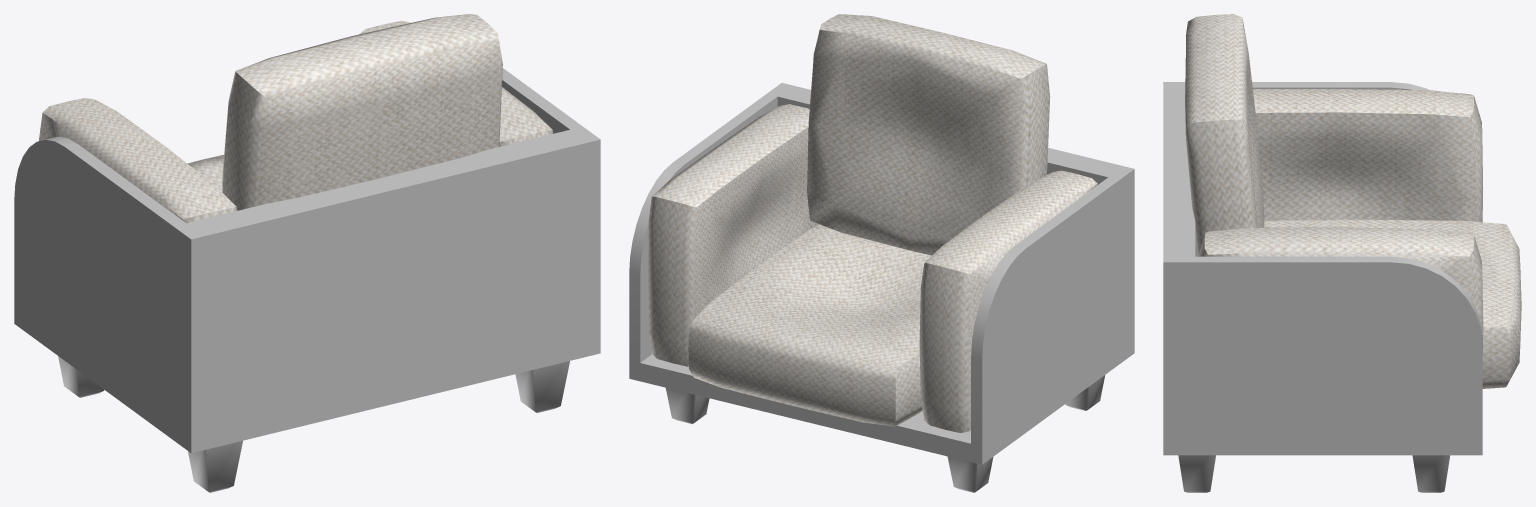
Rendered from furniture_seating_210066.glb.
3 views of the same model, side by side, from view 1: azimuth 30°, elevation 25°; view 2: azimuth 150°, elevation 25°; view 3: azimuth 270°, elevation 25° (orthographic). The views are drawn at different scales.
Visible parts, largest first — view 1: furniture_seating_210066; view 2: furniture_seating_210066; view 3: furniture_seating_210066.
Part boxes in pixels (left/top/right/bottom): furniture_seating_210066: left=14, top=14, right=600, bottom=492; furniture_seating_210066: left=629, top=14, right=1134, bottom=492; furniture_seating_210066: left=1163, top=14, right=1521, bottom=492.
Bounding box in the file's own units: 0.9557 × 0.8823 × 0.8029.
1 material, 1 textured.
